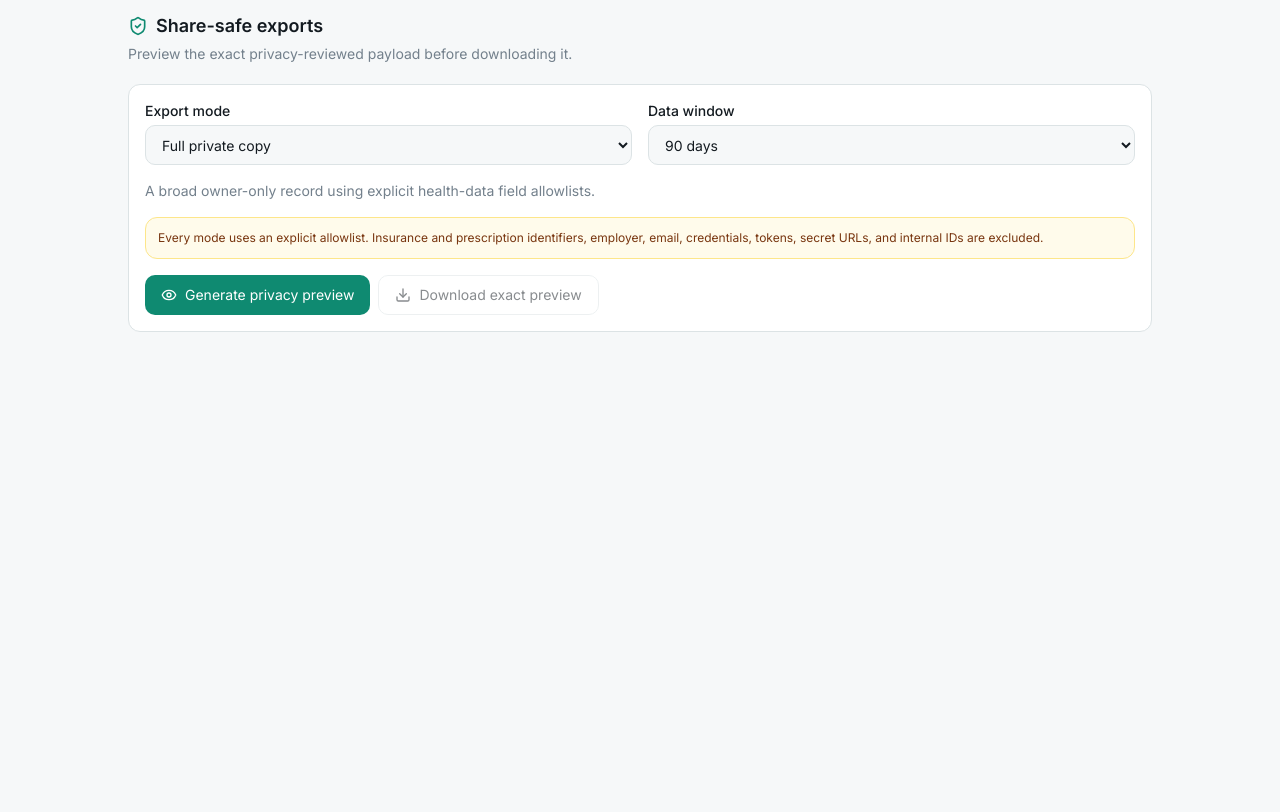
Test: ShareExports › invalidates the preview when a meaningful export input changes
Click the button "Generate privacy preview" at (258, 295), box [145,275,370,315]
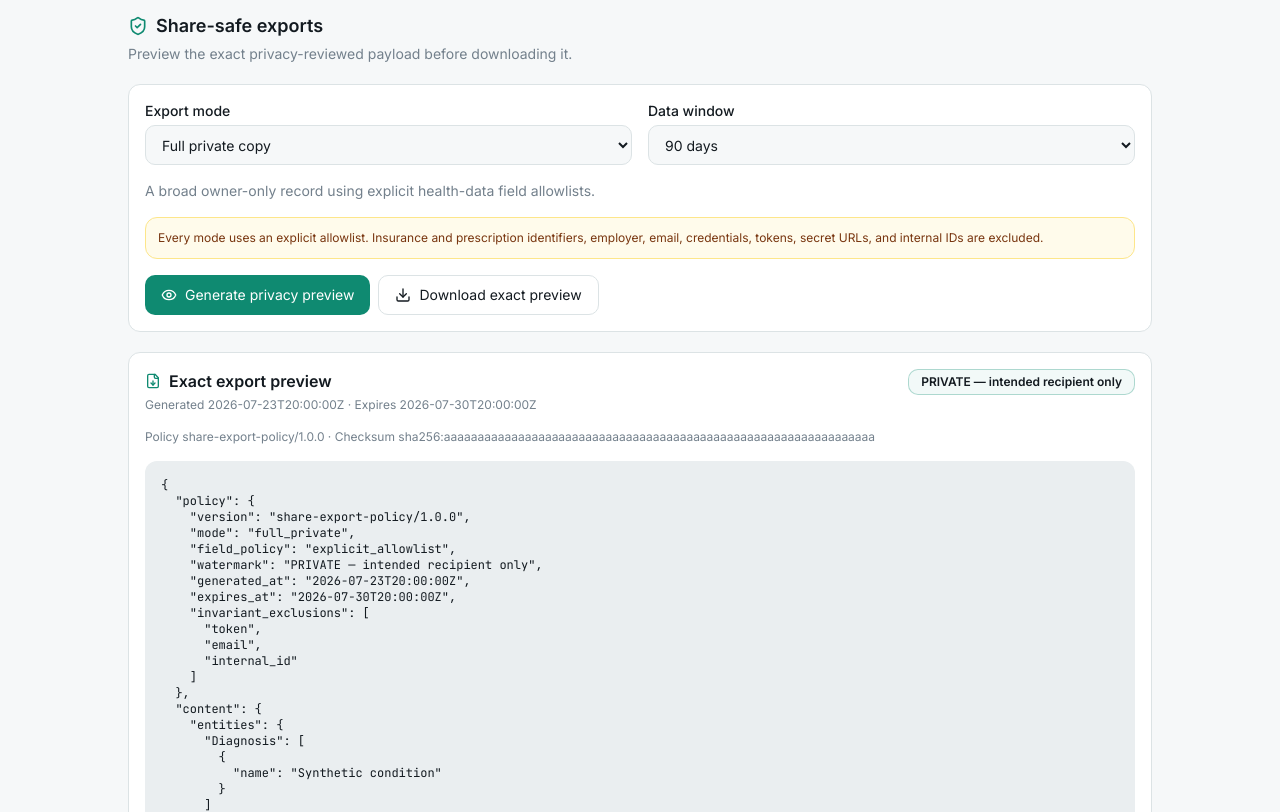
Check: the heading "Exact export preview" is shown, box [145,371,332,391]
Select "30 days" in the dropdown named "Export date range" at (892, 145), box [648,125,1135,165]
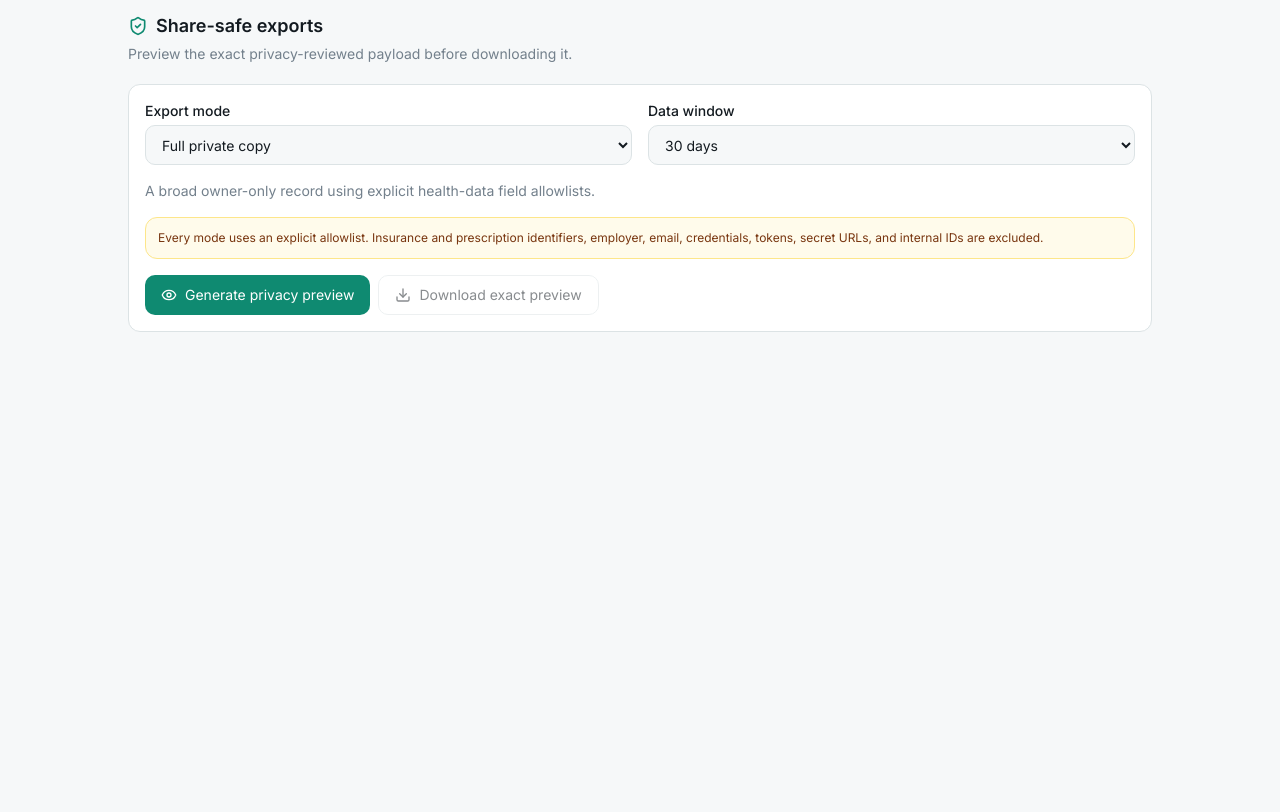
Check: the heading "Exact export preview" is gone
Check: the button "Download exact preview" is disabled, box [378,275,599,315]
